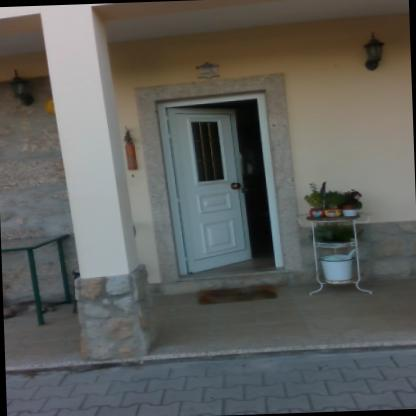semi: (149, 83, 294, 294)
